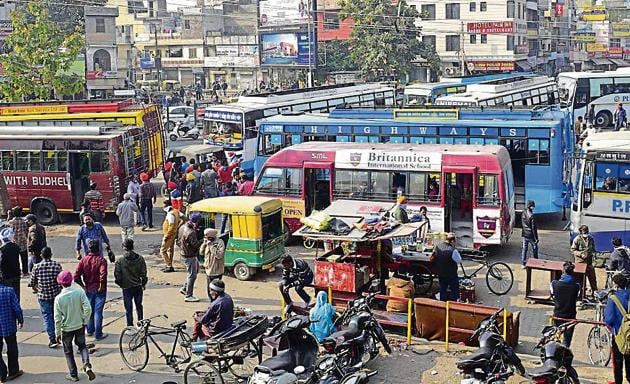bike: (257, 317, 320, 384), (332, 292, 388, 362), (462, 318, 521, 384), (524, 324, 576, 384), (168, 117, 204, 145)
bus: (260, 140, 525, 245), (1, 120, 151, 222), (572, 129, 630, 258), (554, 68, 630, 121), (204, 104, 257, 175)
rickshaw: (180, 186, 287, 282)
